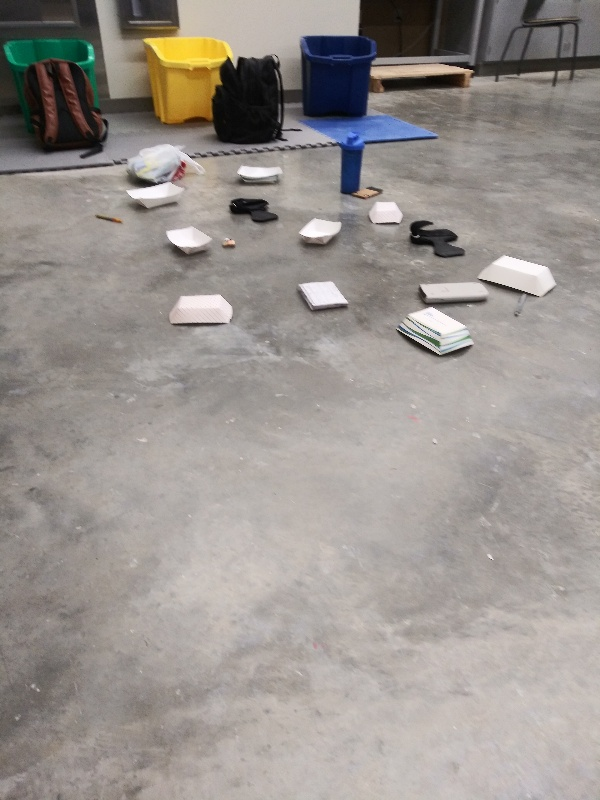plate: (391, 305, 477, 359), (472, 251, 559, 301), (164, 291, 237, 327), (119, 180, 190, 215), (158, 225, 214, 256), (291, 216, 346, 246), (232, 162, 286, 190), (362, 197, 403, 226)
